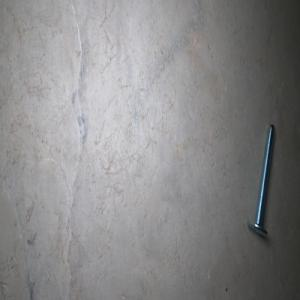Bolt: (247, 123, 275, 236)
